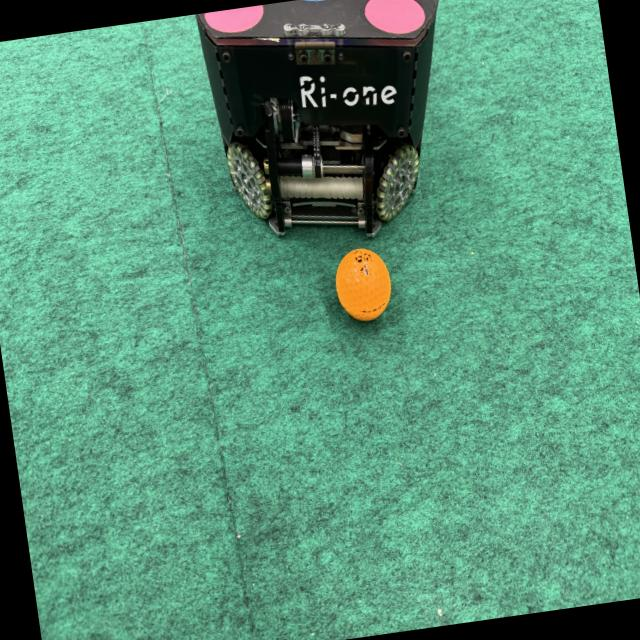ball: (329, 238, 398, 328)
